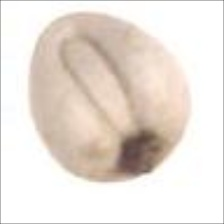L5: (58, 33, 137, 136), (116, 132, 174, 177)
L6: (25, 10, 194, 187)
